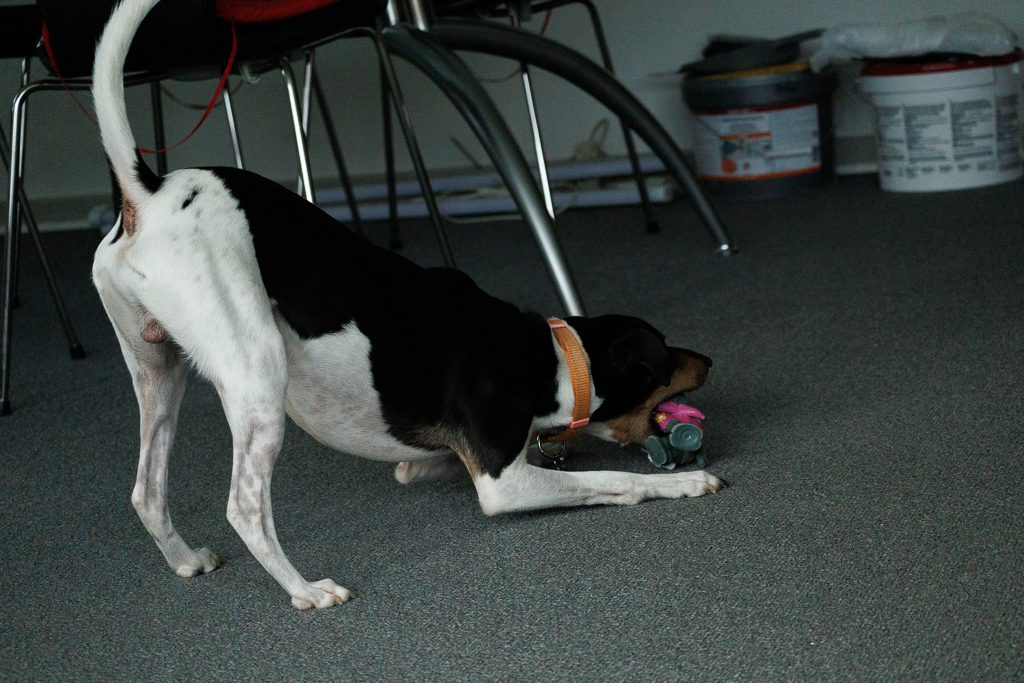Dog: (82, 0, 740, 616)
Humanoid: (628, 391, 716, 478)
